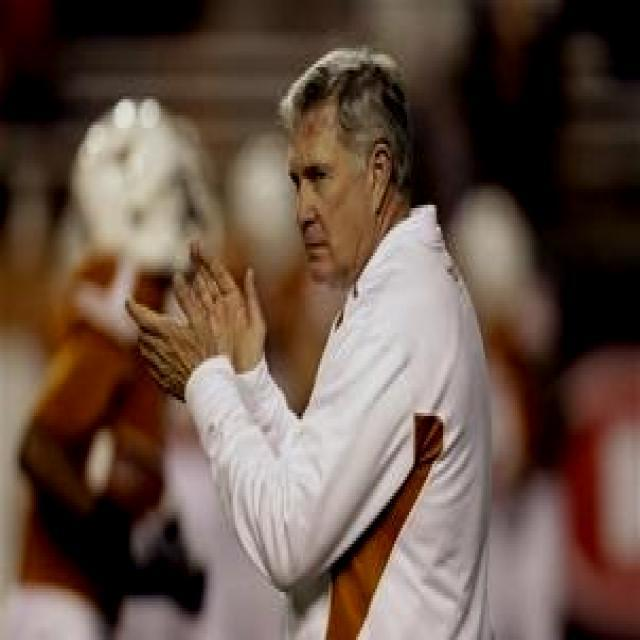no_vest: (274, 205, 502, 640)
